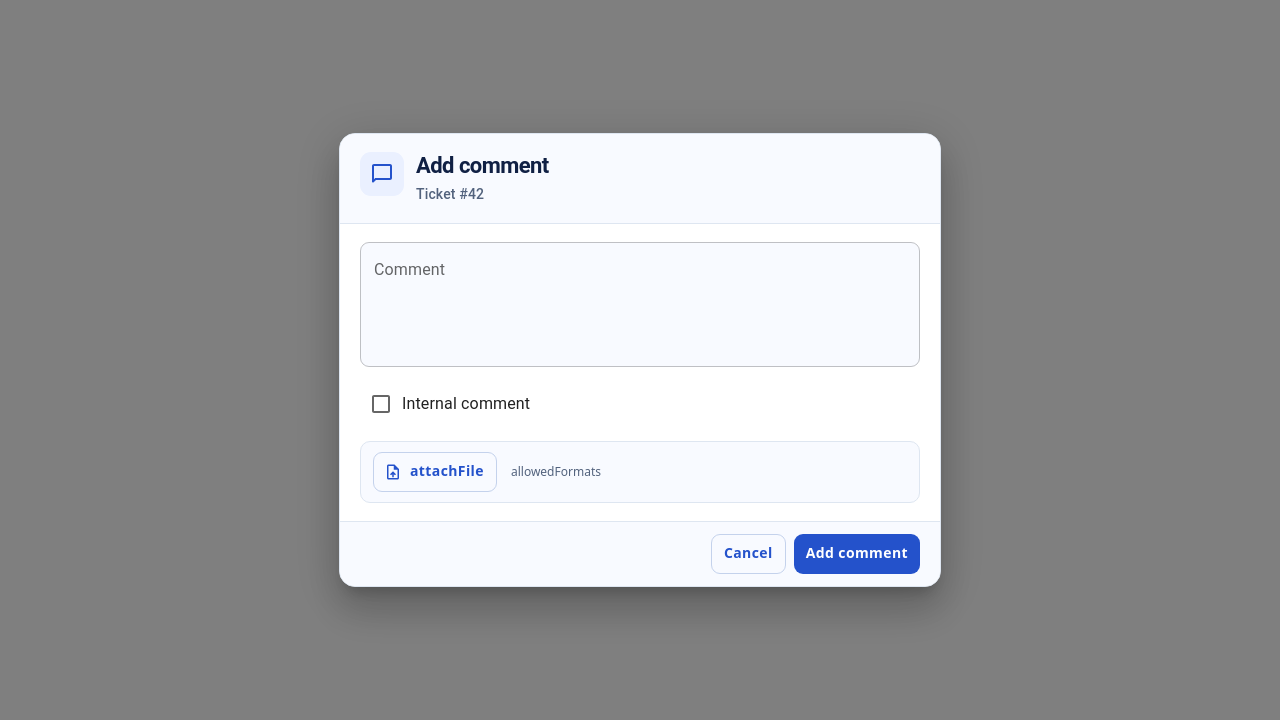
AddTicketCommentDialog › requires non-empty comment text
Click the button "Add comment" at point(857, 554), box [794,534,920,574]
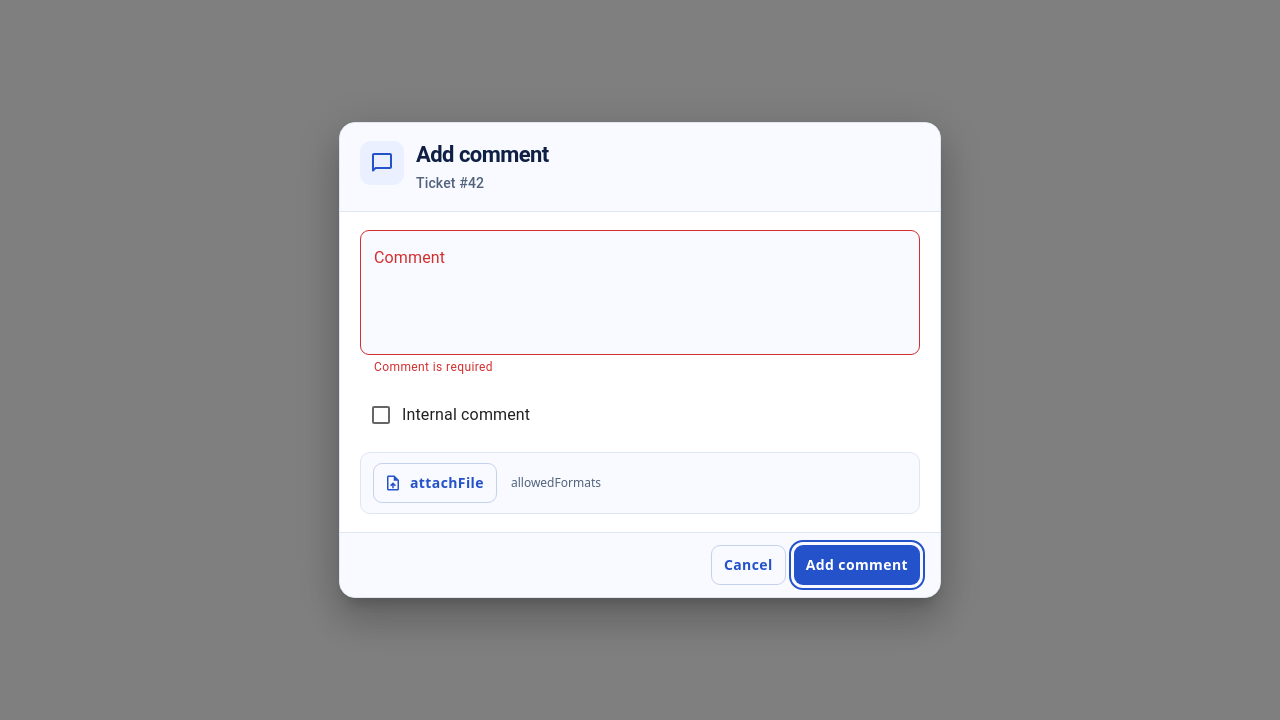
Expected: the text "Comment is required" is shown, [374,360,493,374]
